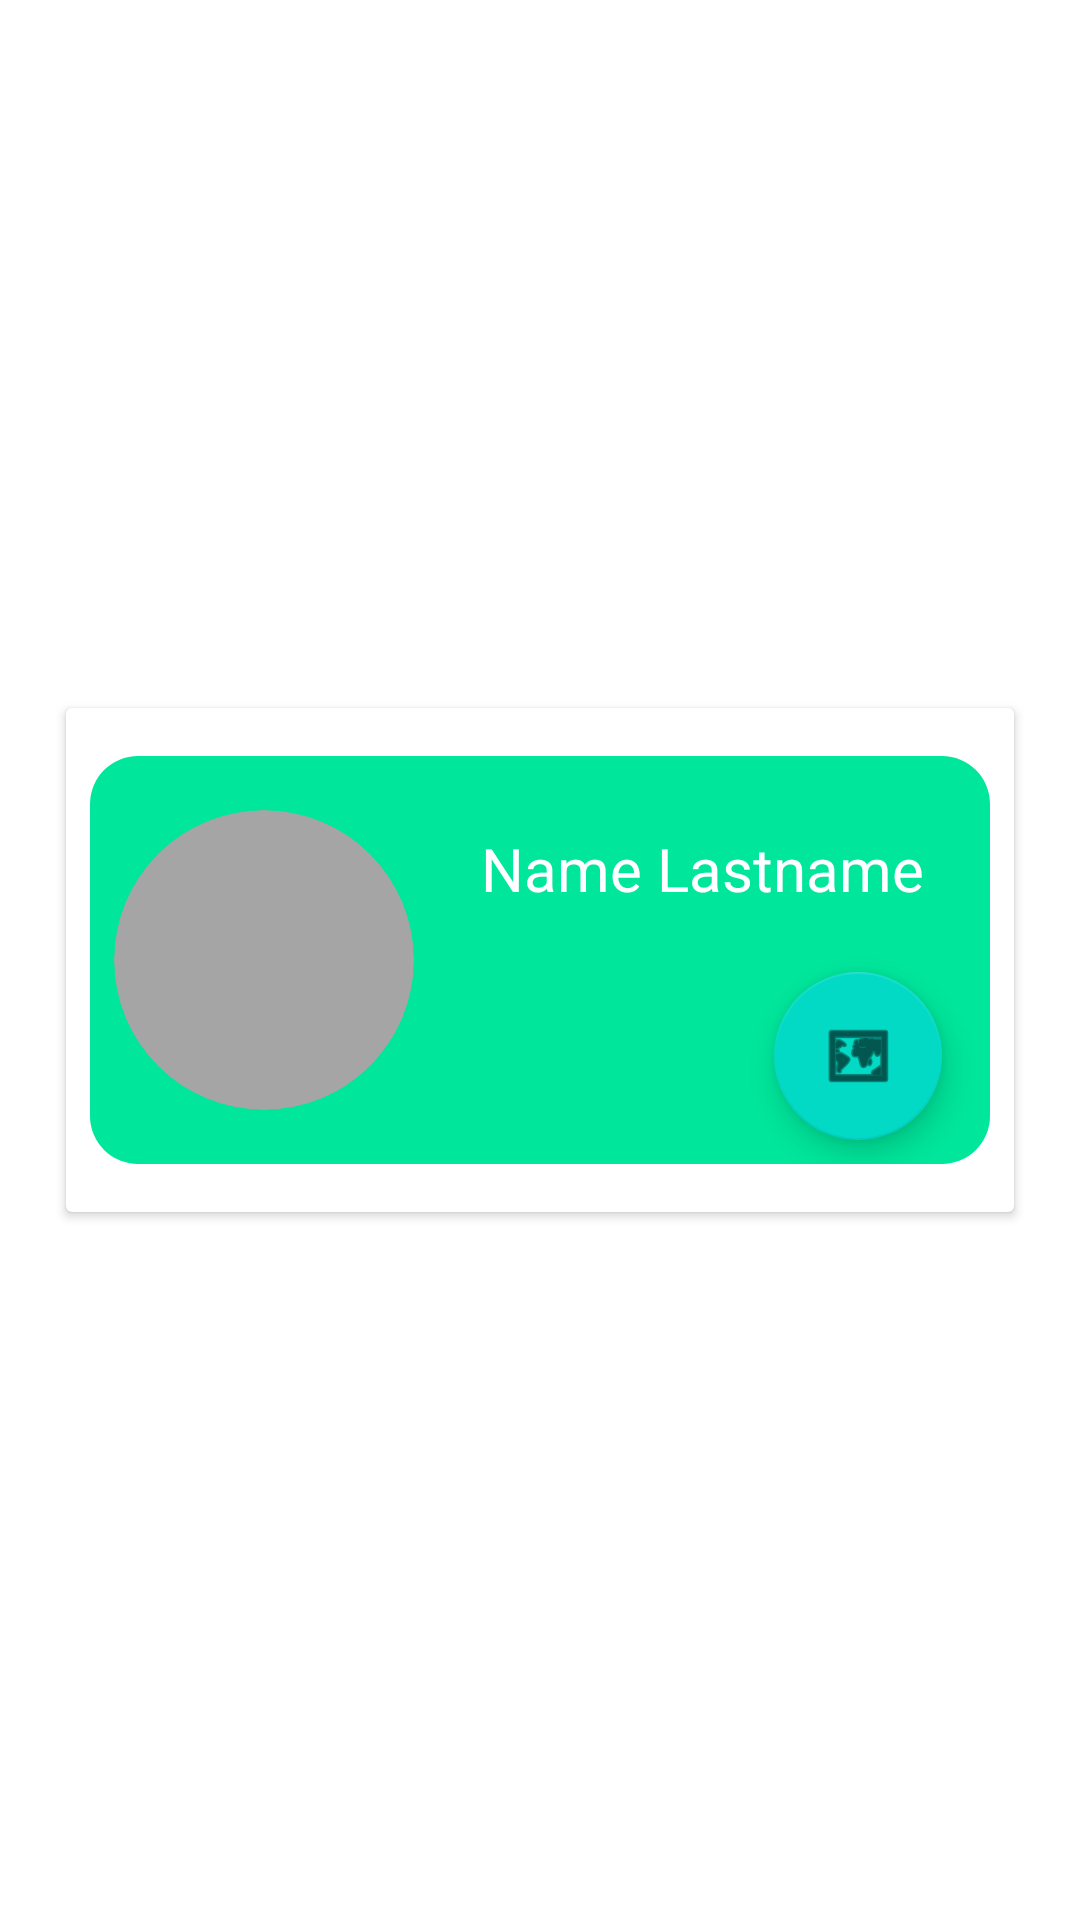

Locate icon controls on the screen. Image size 1080 × 1920, boxes as rect(x1, y1, x2, y2).
View real time location: rect(774, 972, 942, 1140)
